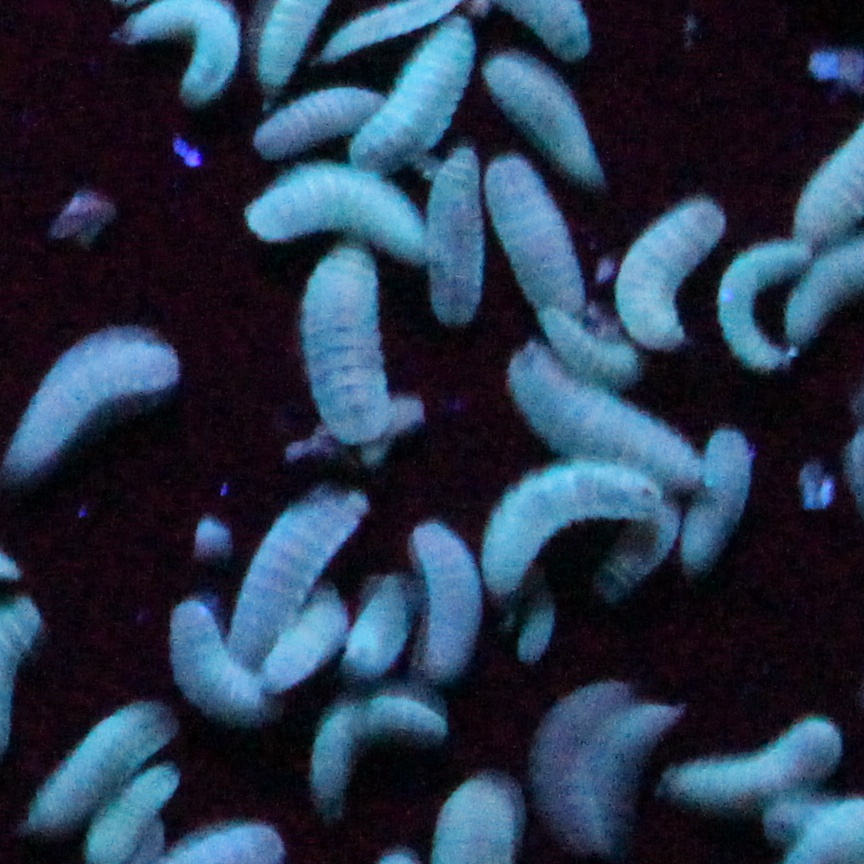larve: (506, 342, 711, 488), (5, 327, 180, 488), (483, 460, 668, 594), (228, 498, 372, 665), (348, 16, 477, 172), (30, 703, 179, 838), (482, 42, 608, 187), (302, 239, 391, 444), (482, 153, 588, 318), (242, 165, 428, 258), (616, 198, 725, 352), (659, 716, 843, 805), (534, 683, 626, 858), (163, 596, 286, 723), (586, 703, 683, 860), (310, 694, 448, 800), (717, 239, 808, 373), (406, 525, 481, 674), (425, 145, 482, 325), (254, 90, 394, 162), (539, 307, 640, 393), (686, 429, 748, 565), (266, 592, 352, 689), (343, 578, 419, 678)
